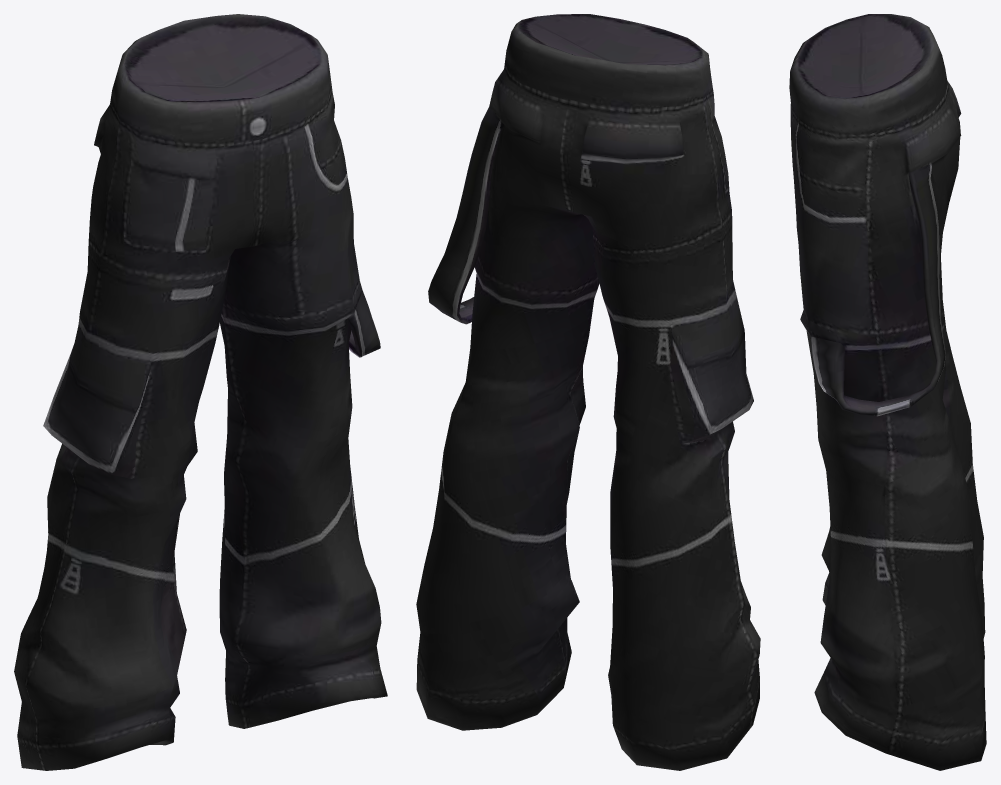
3 renders of one model, left to right at view 1: azimuth 30°, elevation 25°; view 2: azimuth 150°, elevation 25°; view 3: azimuth 270°, elevation 25°, orthographic. The views are drawn at different scales.
Parts seen in each view (by area): view 1: Wolf3D_Outfit_Bottom; view 2: Wolf3D_Outfit_Bottom; view 3: Wolf3D_Outfit_Bottom.
Boxes of the visible parts, left/top/right/bottom form: Wolf3D_Outfit_Bottom: left=14, top=14, right=387, bottom=770; Wolf3D_Outfit_Bottom: left=416, top=14, right=760, bottom=770; Wolf3D_Outfit_Bottom: left=789, top=14, right=986, bottom=770.
Size of the model in its own units: 0.5563 by 1.09 by 0.295.
1 material, 1 textured.
